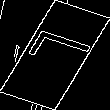L_SE: (15, 31, 95, 79)
